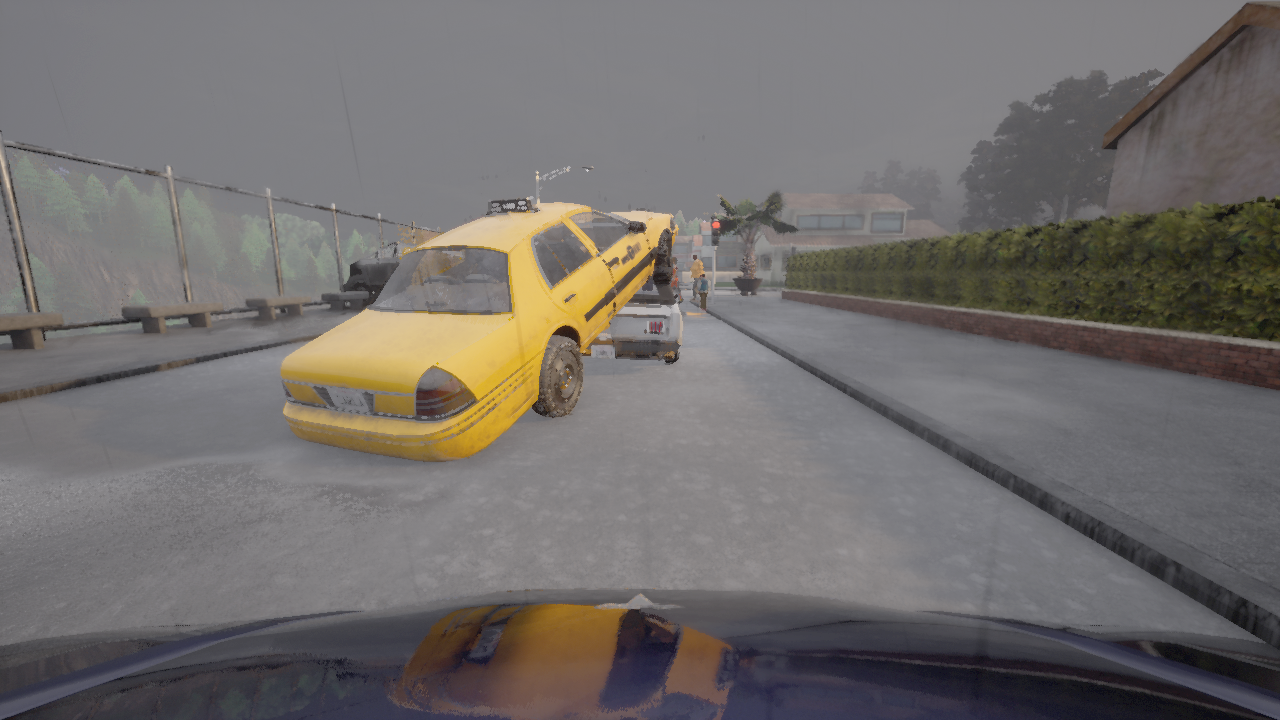cyclist: (0, 588, 1279, 719), (279, 197, 677, 462), (581, 277, 683, 363), (343, 242, 420, 306)
pedestrian: (690, 254, 703, 301), (670, 257, 682, 302), (698, 272, 710, 310)
